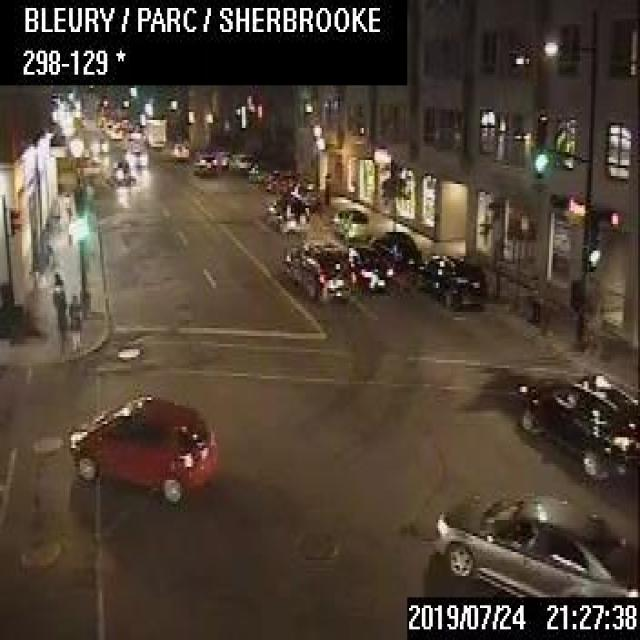pedestrian: (68, 293, 80, 352), (56, 297, 66, 356), (49, 269, 63, 310)
vehicle: (431, 488, 638, 594), (66, 392, 218, 502), (510, 370, 638, 482), (281, 237, 356, 298), (414, 250, 486, 308), (342, 241, 393, 291), (367, 229, 420, 272), (263, 195, 311, 232), (330, 206, 367, 241), (288, 174, 319, 209), (140, 118, 164, 146), (274, 168, 298, 194), (111, 158, 135, 183), (192, 152, 216, 176), (125, 144, 146, 166), (226, 152, 250, 169), (261, 167, 278, 189), (171, 140, 188, 162), (212, 148, 230, 165), (247, 162, 263, 180)
